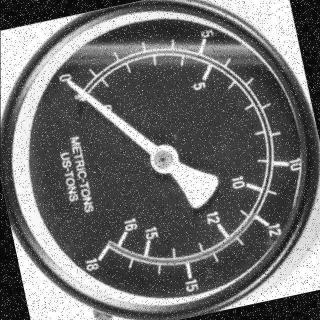gauge: (0, 0, 320, 320), (77, 227, 132, 273), (57, 68, 97, 112), (149, 144, 179, 175), (64, 77, 75, 88)
